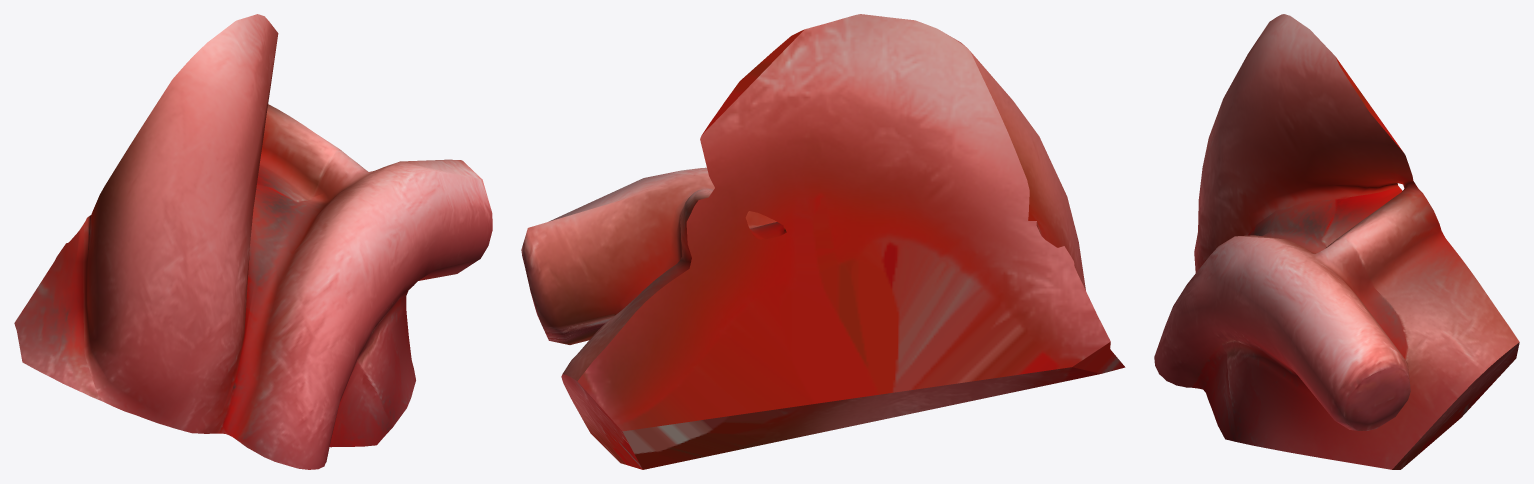
Rendered from SM_HeartPiece_5_.FBX.
3 renders of one model, left to right at view 1: azimuth 30°, elevation 25°; view 2: azimuth 150°, elevation 25°; view 3: azimuth 270°, elevation 25°, orthographic. The views are drawn at different scales.
Visible parts, largest first — view 1: SM_HeartPiece_5_; view 2: SM_HeartPiece_5_; view 3: SM_HeartPiece_5_.
Boxes of the visible parts, bbox=[...] form: SM_HeartPiece_5_: bbox=[14, 14, 492, 469]; SM_HeartPiece_5_: bbox=[521, 14, 1125, 469]; SM_HeartPiece_5_: bbox=[1154, 14, 1519, 469].
Size of the model in its own units: 477 by 335 by 373.
